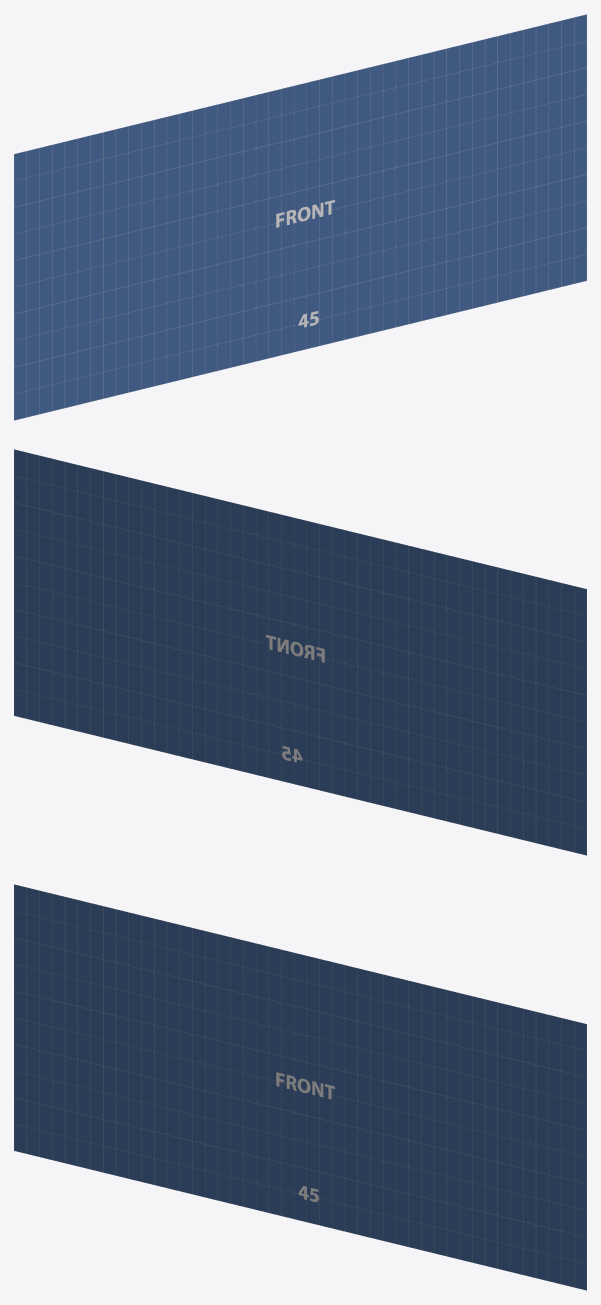
File: ANYMA_Coachella_Stage_v007_LED_FRONT.glb
The picture shows the model from 3 angles, top to bottom: view 1: azimuth 30°, elevation 25°; view 2: azimuth 150°, elevation 25°; view 3: azimuth 330°, elevation 25°; orthographic projection.
Parts seen in each view (by area): view 1: LED_FRONT; view 2: LED_FRONT; view 3: LED_FRONT.
Boxes of the visible parts, x1,y1,x2,y2 form: LED_FRONT: [14, 14, 586, 420]; LED_FRONT: [14, 449, 586, 855]; LED_FRONT: [14, 884, 586, 1290].
Size of the model in its own units: 27 by 12 by 0.
Materials: 1 (1 with a texture image).
